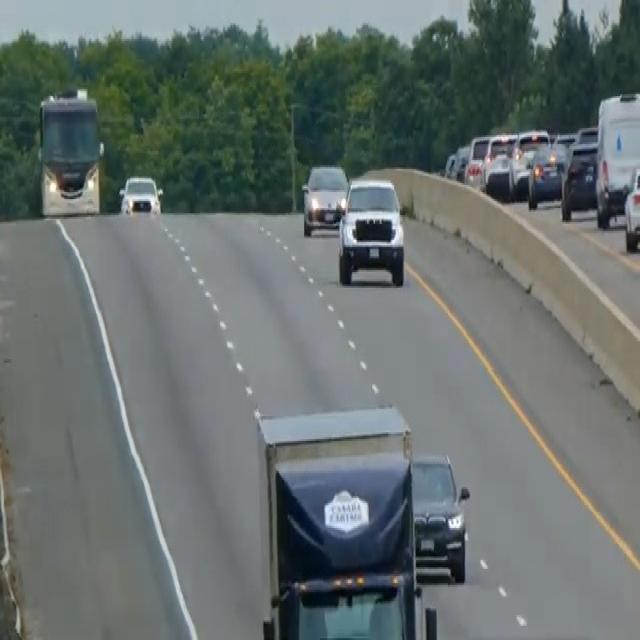bus: (36, 84, 105, 218)
car: (409, 450, 470, 583), (300, 160, 349, 235), (560, 137, 598, 220), (484, 133, 528, 201), (526, 140, 564, 208), (118, 172, 162, 217), (622, 160, 639, 251), (463, 132, 489, 188)
jeep: (334, 172, 407, 288)
lorry: (253, 402, 440, 636)
minibus: (594, 89, 639, 227)
